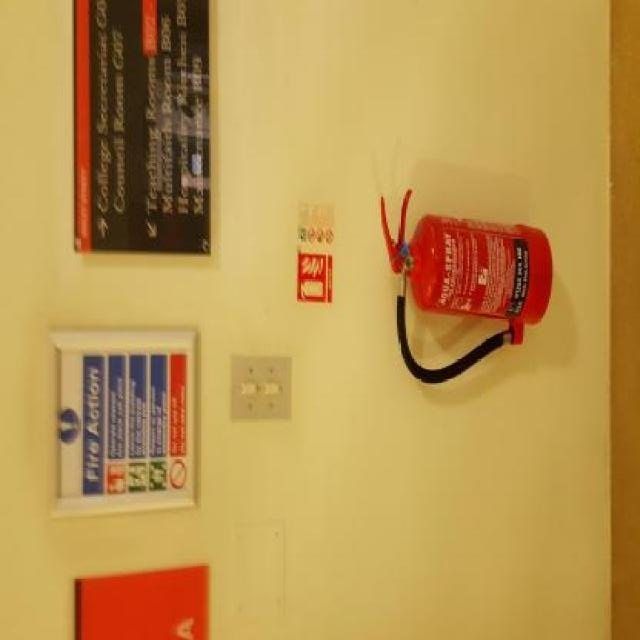fire extinguisher: (379, 185, 553, 386)
